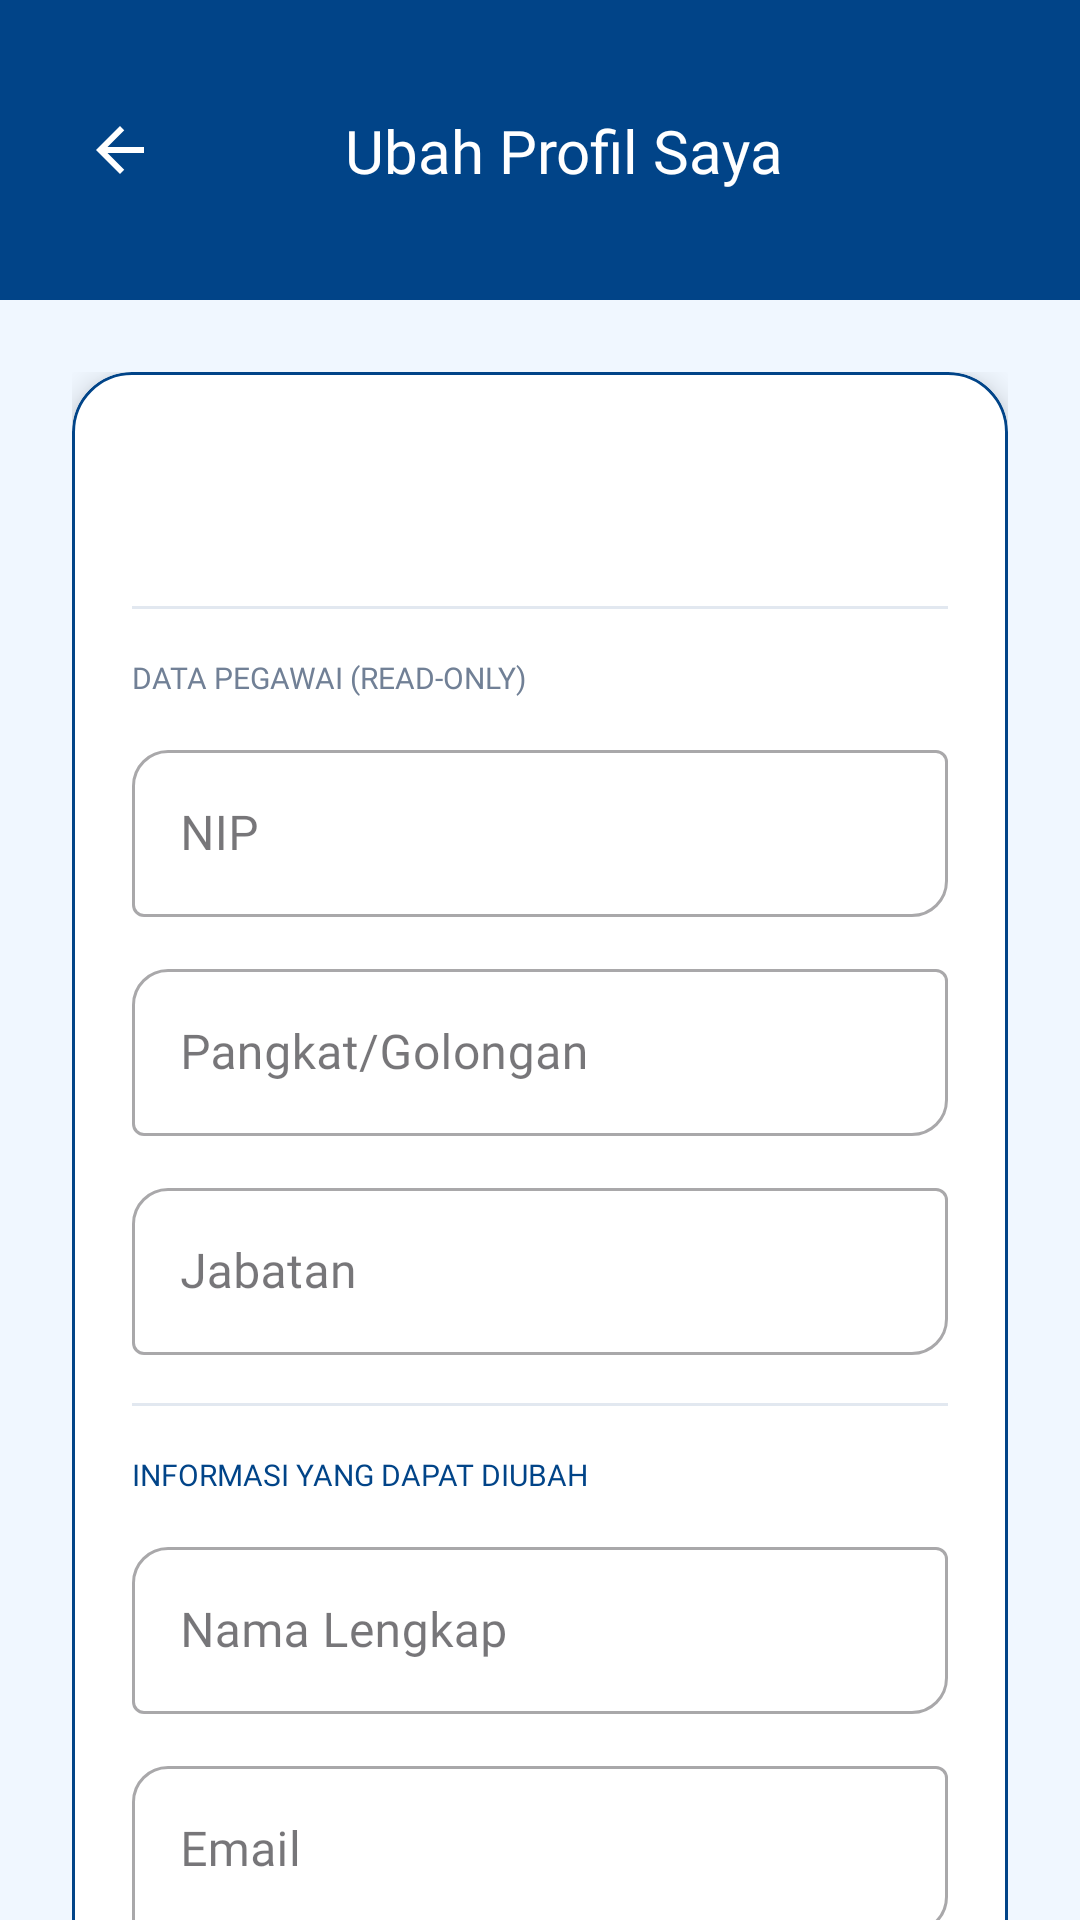

Icon bounding boxes for this 1080px x 1920px phone screenshot, format (x1, y1, x2, y2):
arrow back: (96, 126, 144, 174)
